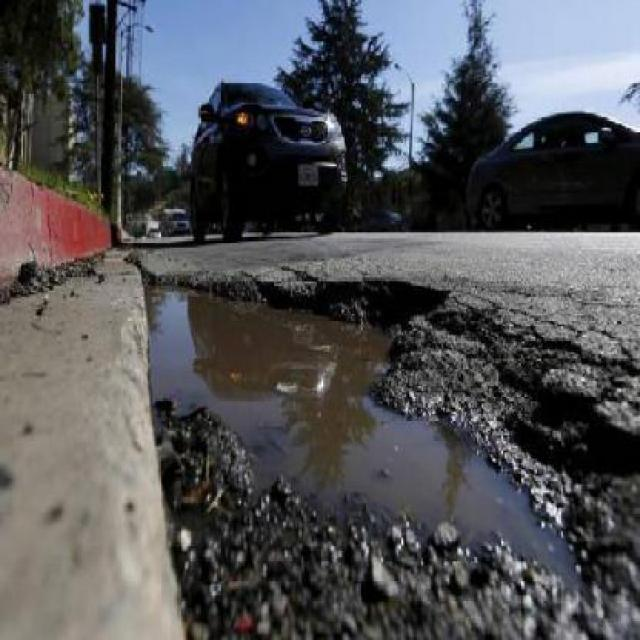Pothole: (135, 264, 637, 638)
